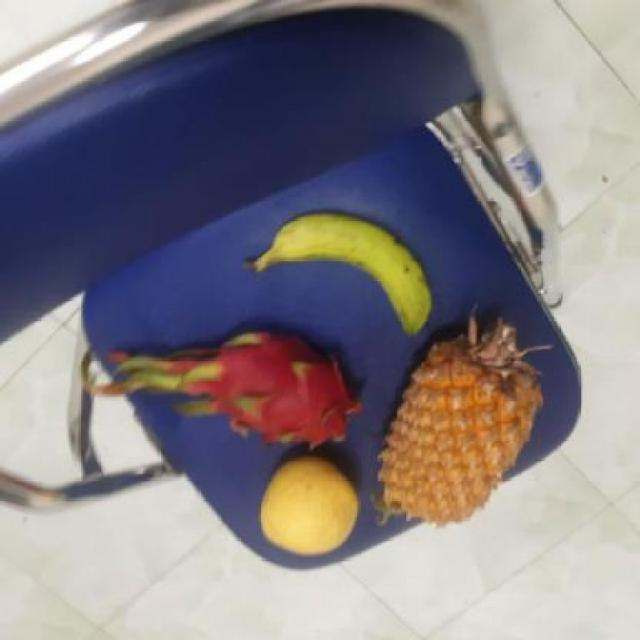banana: (250, 214, 424, 338)
dragon fruit: (195, 325, 354, 450)
pear: (253, 453, 359, 556)
pineapple: (370, 305, 541, 529)
